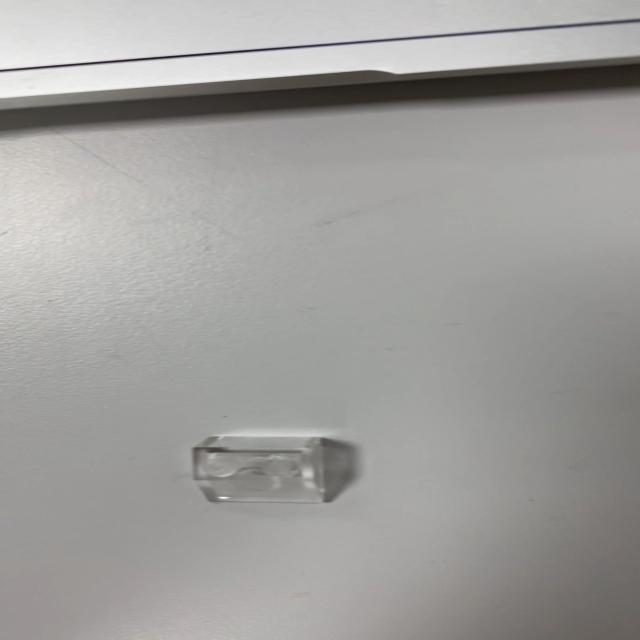P2x2x1: (188, 434, 356, 504)
